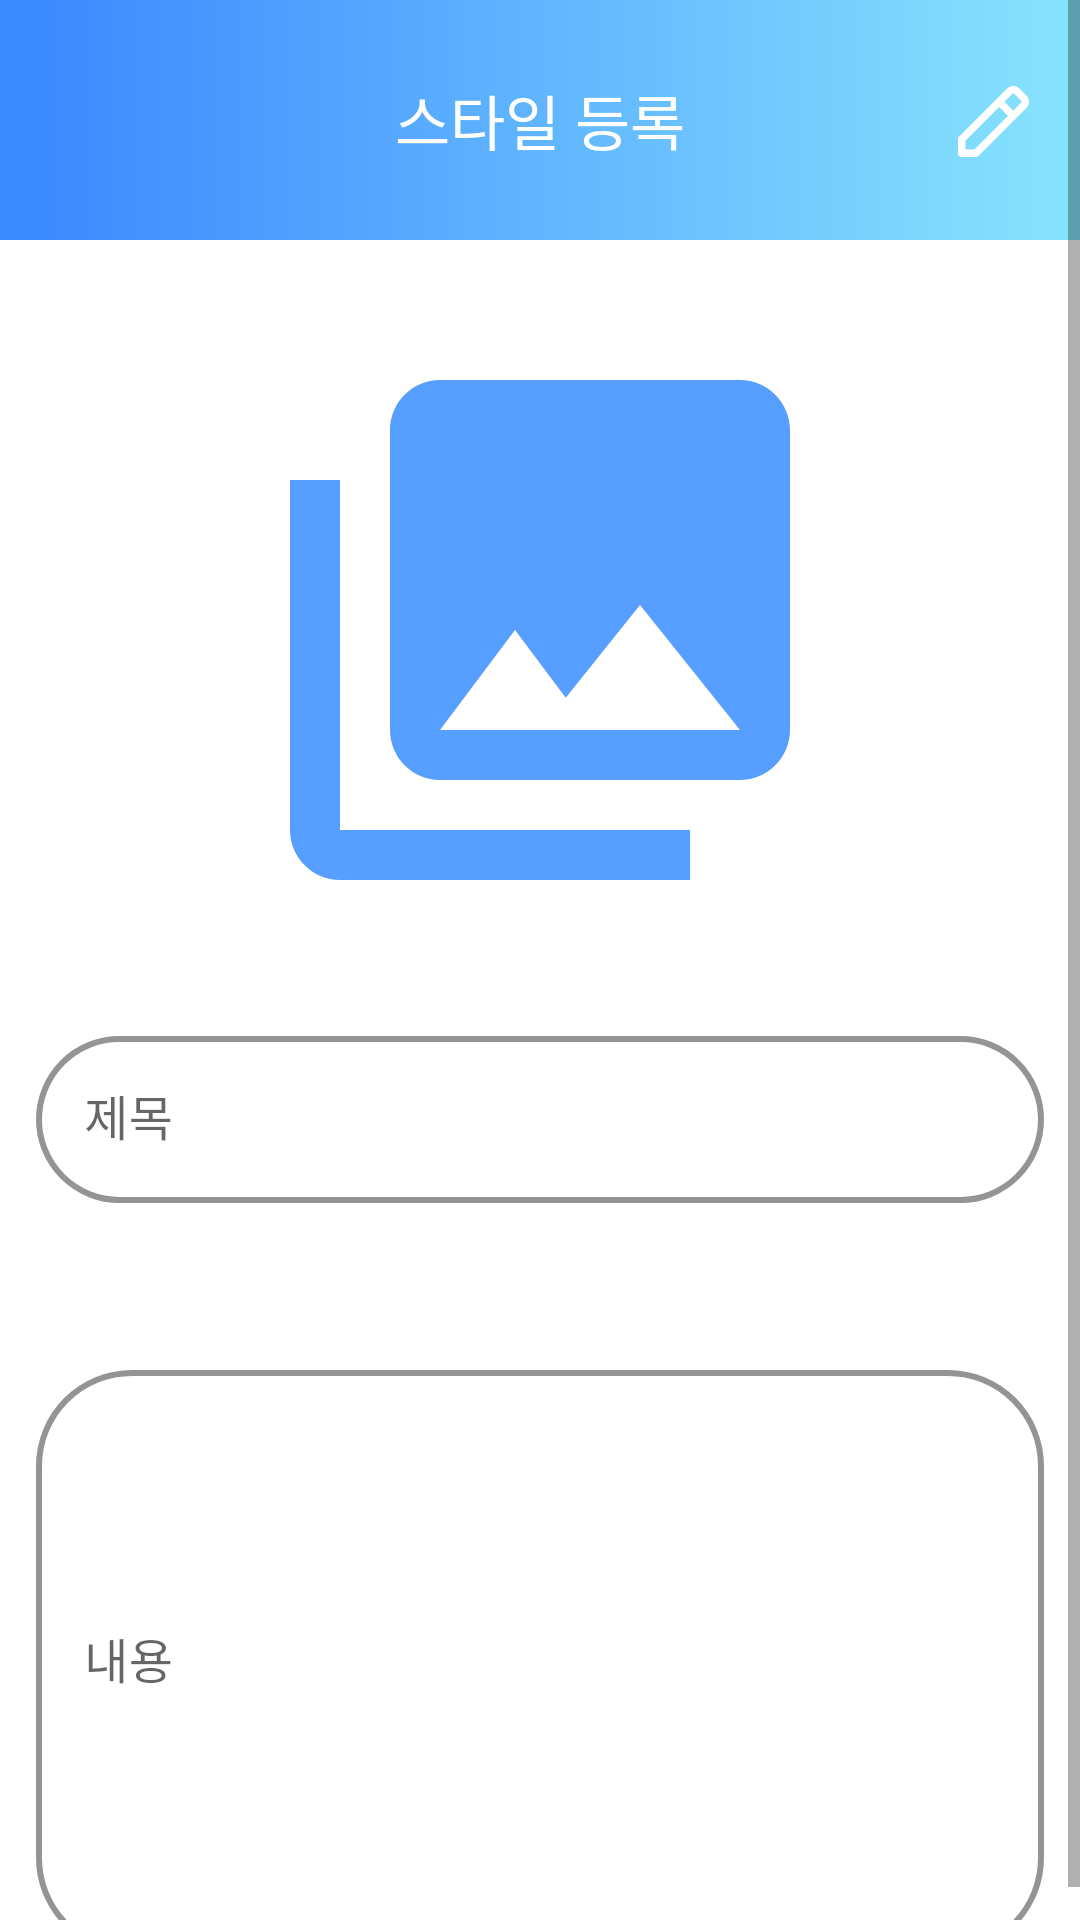

Named icons in this screenshot (1080x1920) and their bounding boxes, (x1, y1, x2, y2):
write: (958, 86, 1029, 157)
